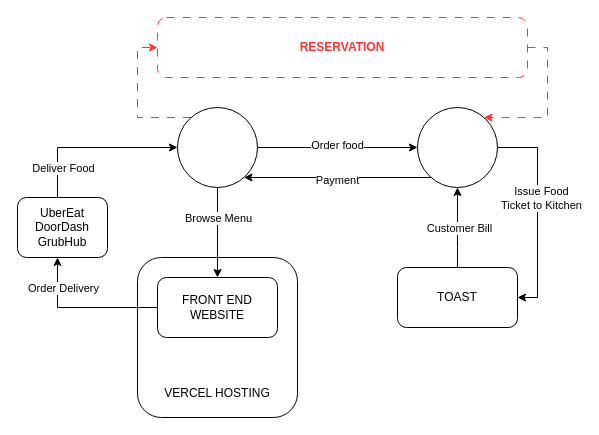
Some shapes in this 599 by 435 pixel diagram are drawn without their labels. Here are the shapes that lost their labels. From the top down, the centre of each, then its label:
(217,147): Customer
(457,147): Restaurant Staff
